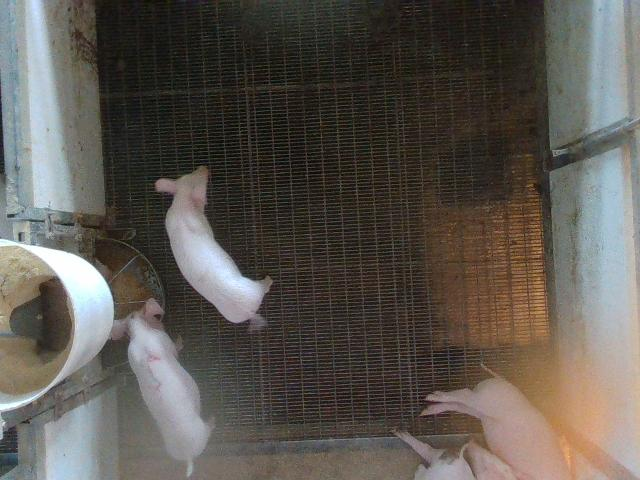pig-5: (110, 298, 210, 476)
